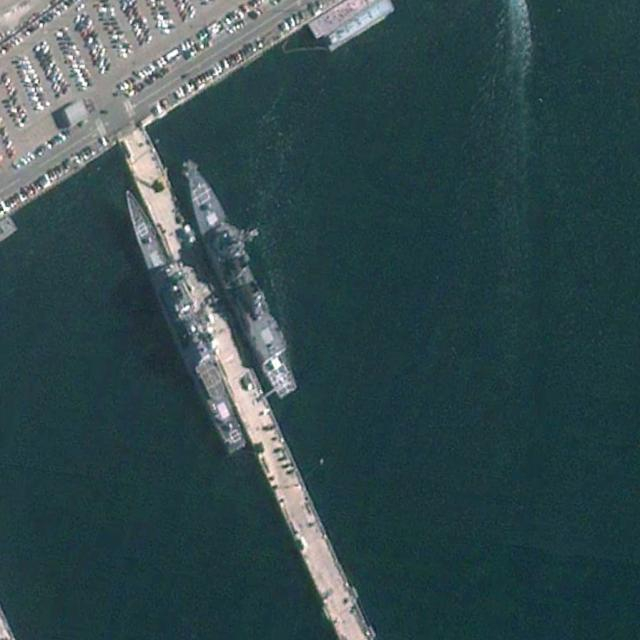Cruiser: (114, 177, 255, 458)
Destroyer: (172, 157, 307, 405)
